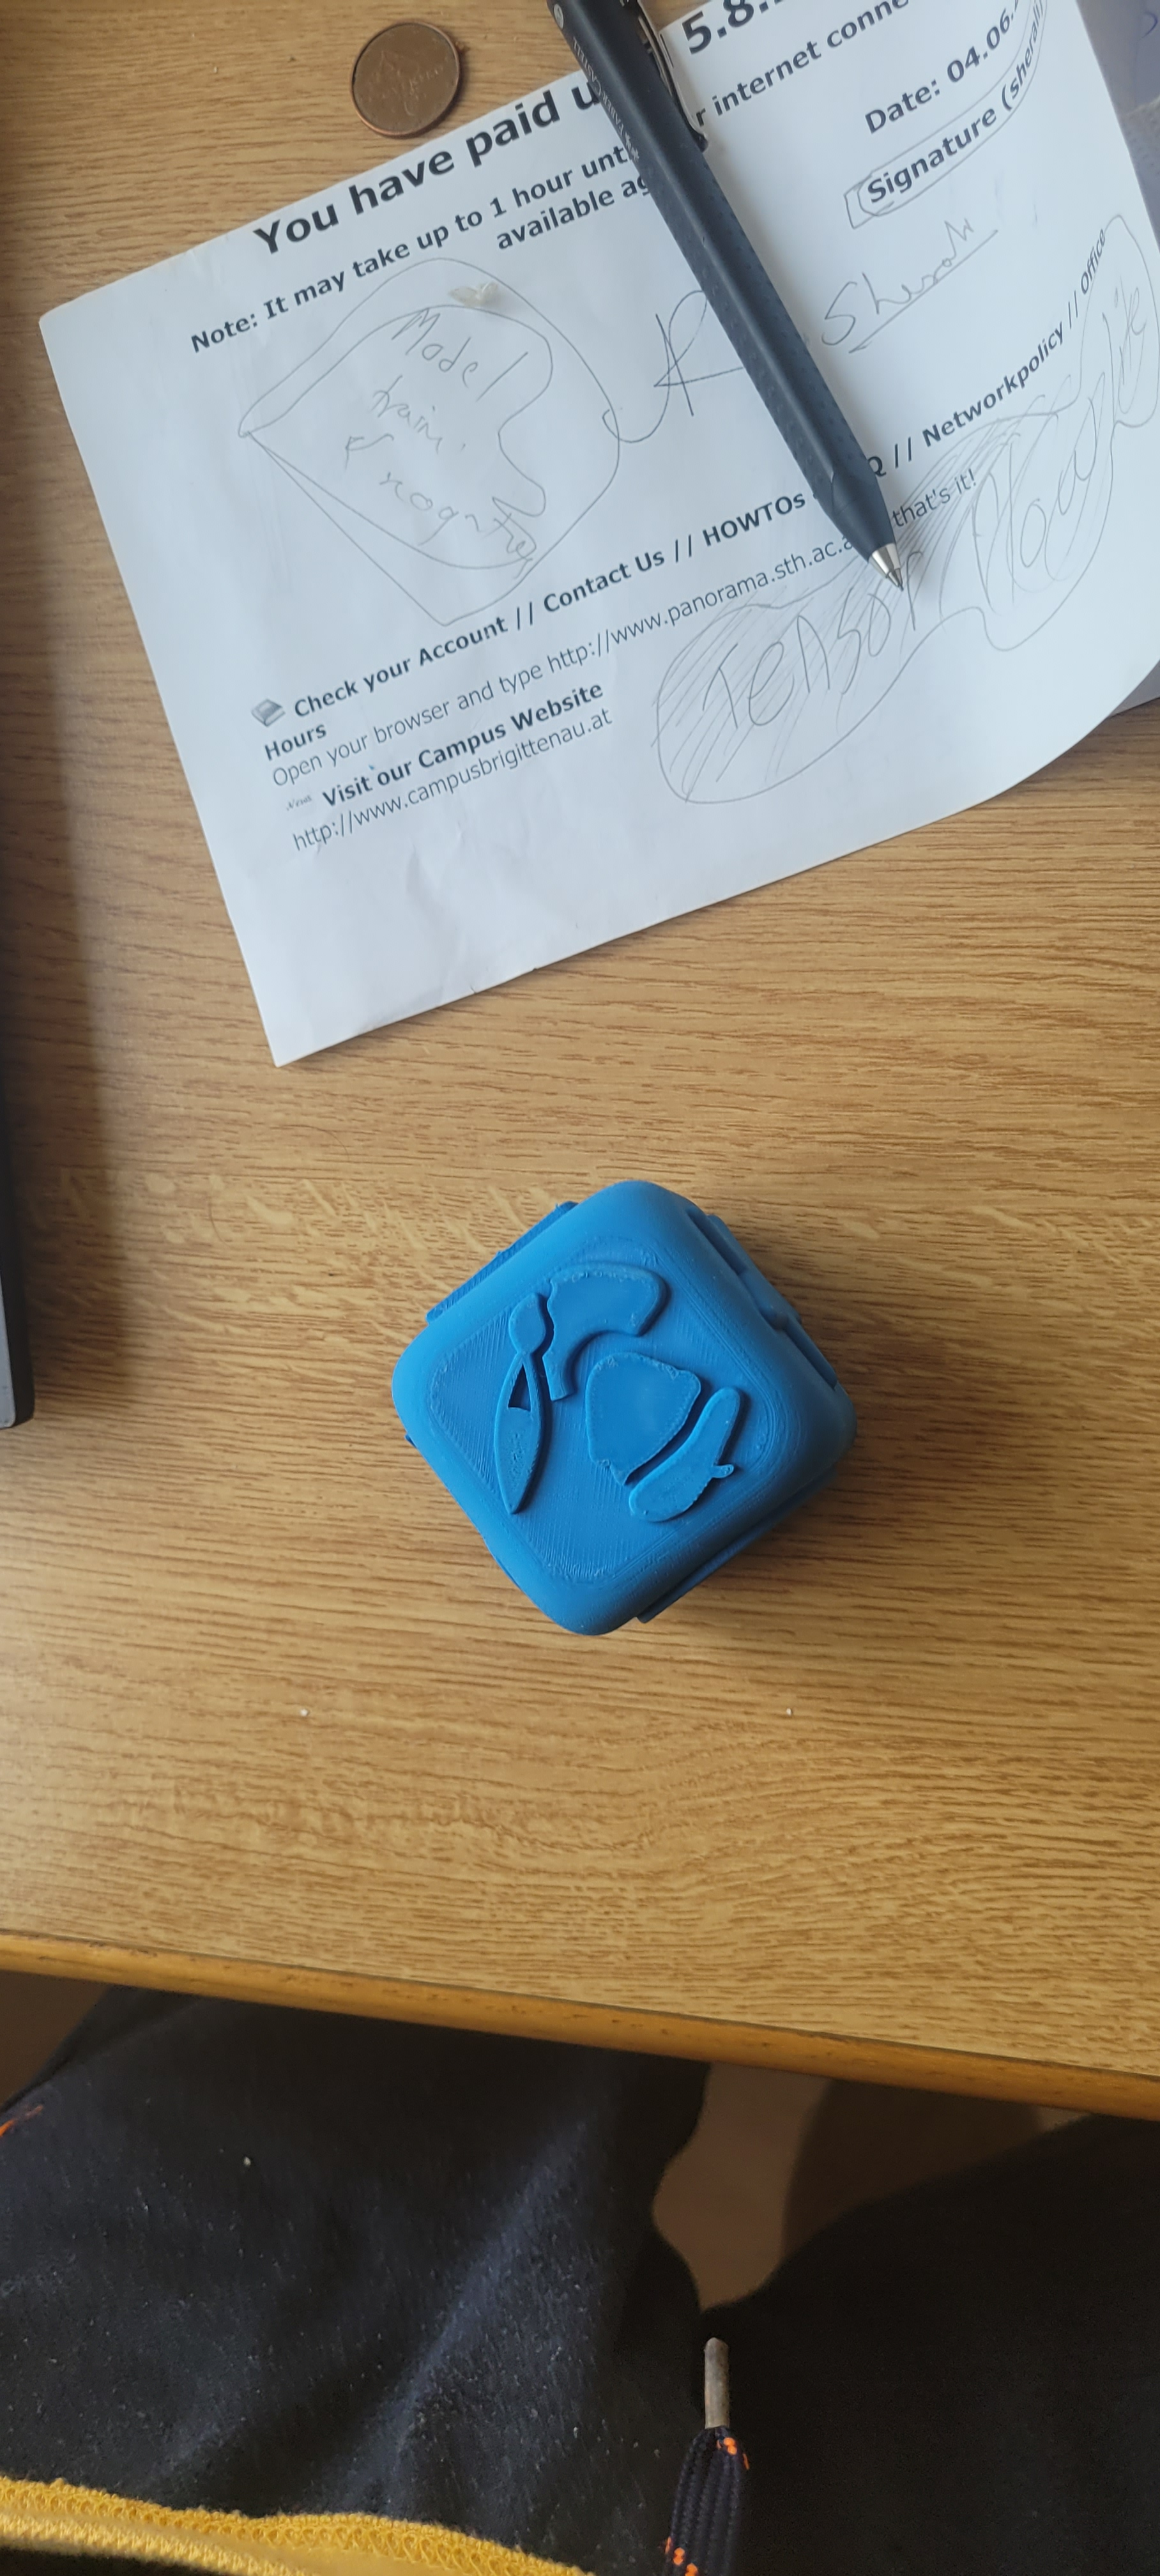Artist_Info: (453, 1232, 836, 1613)
